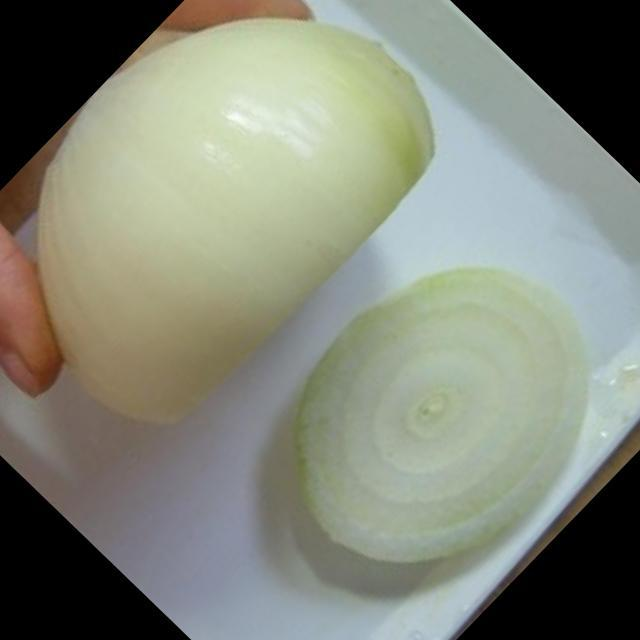Onion: (34, 13, 436, 427), (298, 261, 585, 568)
